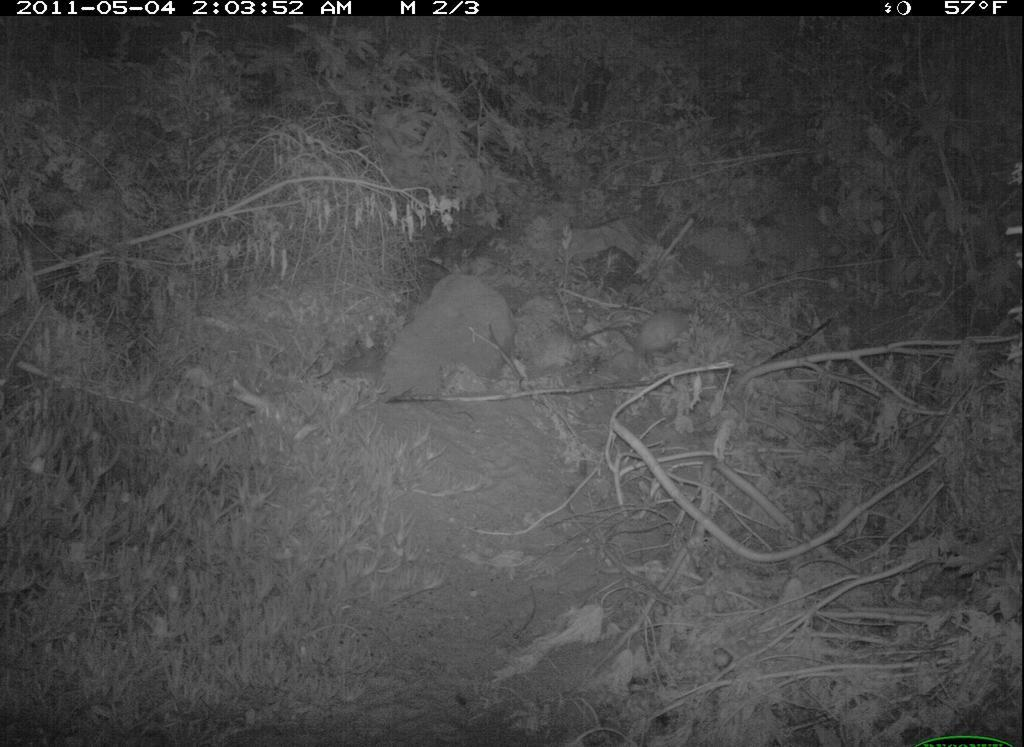opossum: (617, 300, 705, 370)
